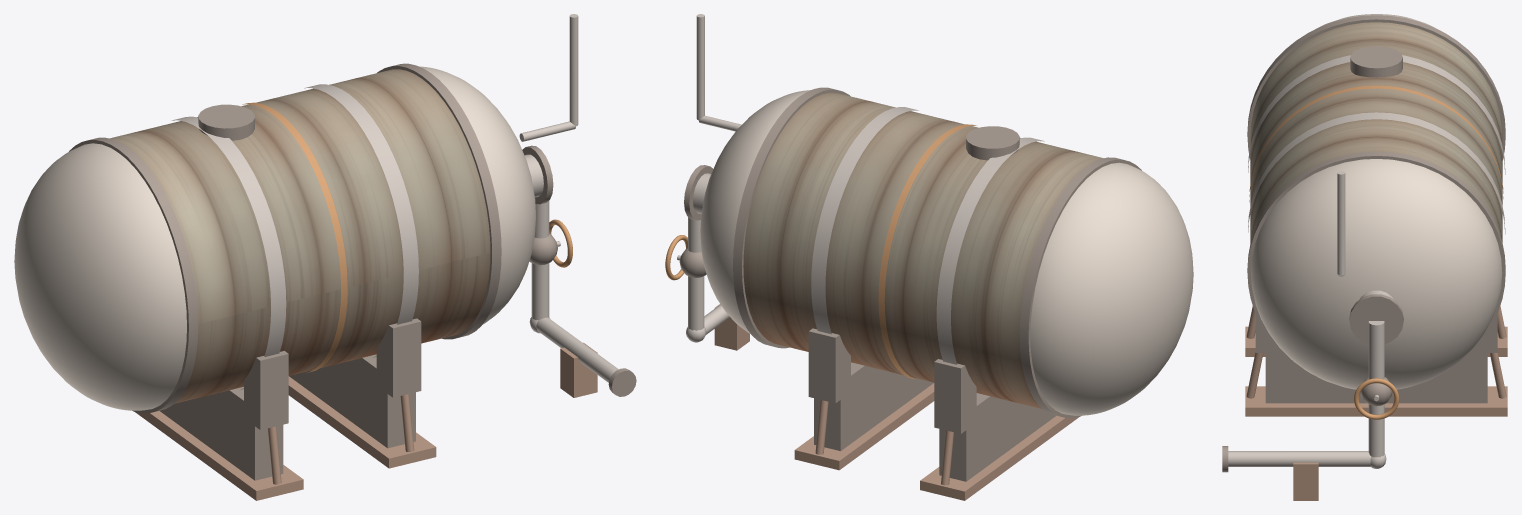
The model's file is E09_horizontal_tank_5m.glb.
3 renders of one model, left to right at view 1: azimuth 30°, elevation 25°; view 2: azimuth 150°, elevation 25°; view 3: azimuth 270°, elevation 25°, orthographic. The views are drawn at different scales.
Visible parts, largest first — view 1: tank, end_dome (×2), saddle (×2), strap (×2), end_ring (×2), base_plate (×2), saddle_horn (×2), accent_stripe, manhole, drop_pipe, manifold, pipe_support (+2 smaller); view 2: tank, end_dome (×2), saddle (×2), strap (×2), end_ring (×2), saddle_horn (×2), base_plate (×2), accent_stripe, manhole, drop_pipe, vent_stack, pipe_support (+2 smaller); view 3: end_dome, tank, saddle, end_ring (×2), base_plate (×2), strap (×2), manifold, flange, drop_pipe, manhole, pipe_support, accent_stripe (+5 smaller).
Boxes of the visible parts, x1,y1,x2,y2 form: tank: (109, 69, 490, 403); end_dome (×2): (14, 66, 535, 410); saddle (×2): (159, 354, 415, 480); strap (×2): (171, 84, 418, 390); end_ring (×2): (69, 63, 501, 413); base_plate (×2): (135, 376, 436, 500); saddle_horn (×2): (244, 318, 421, 429); accent_stripe: (242, 102, 347, 373); manhole: (198, 104, 254, 140); drop_pipe: (531, 200, 549, 320); manifold: (536, 317, 618, 382); pipe_support: (560, 342, 597, 397); tank: (743, 92, 1103, 408); end_dome (×2): (700, 90, 1193, 415); saddle (×2): (814, 362, 1055, 481); strap (×2): (811, 107, 1044, 396); end_ring (×2): (733, 87, 1141, 418); saddle_horn (×2): (808, 328, 976, 433); base_plate (×2): (794, 383, 1078, 500); accent_stripe: (878, 124, 976, 379); manhole: (966, 126, 1019, 160); drop_pipe: (688, 217, 704, 330); vent_stack: (696, 14, 704, 120); pipe_support: (714, 304, 749, 350); end_dome: (1251, 159, 1502, 389); tank: (1250, 22, 1502, 243); saddle: (1265, 353, 1487, 403); end_ring (×2): (1247, 15, 1505, 372); base_plate (×2): (1245, 326, 1507, 416); strap (×2): (1248, 55, 1505, 234); manifold: (1228, 451, 1370, 466); flange: (1349, 294, 1403, 344); drop_pipe: (1368, 321, 1384, 457); manhole: (1350, 46, 1402, 77); pipe_support: (1293, 462, 1318, 500); accent_stripe: (1249, 85, 1503, 202).
Bounding box in the file's own units: 5.52 × 3.6 × 2.83.
Materials: 6 (1 with a texture image).
